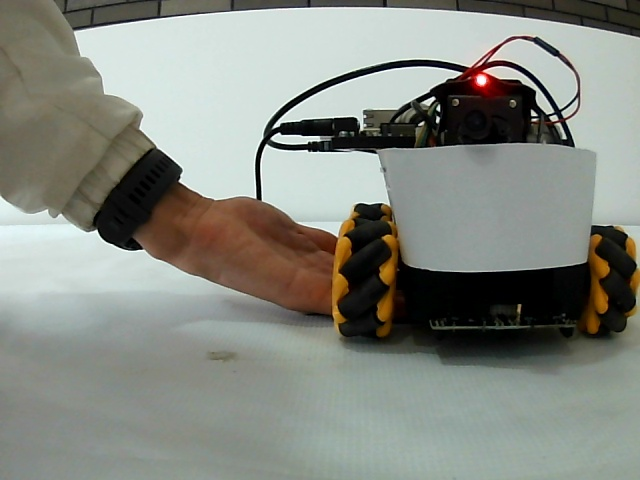car: (337, 73, 628, 337)
paper: (397, 150, 587, 264)
